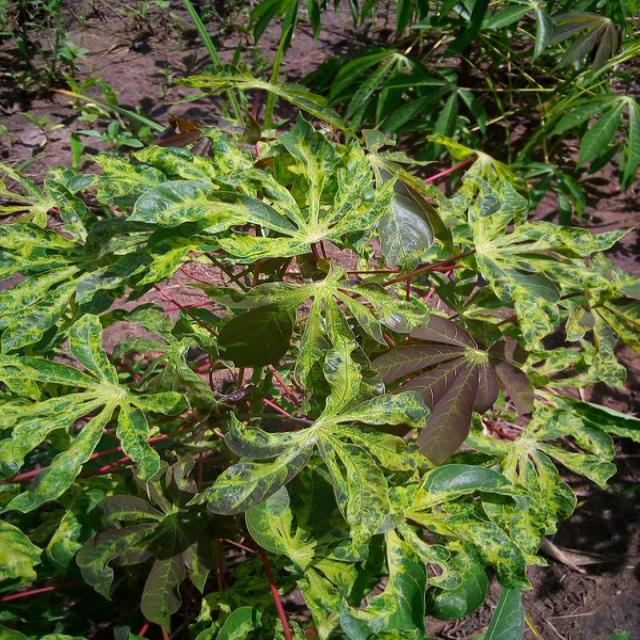Mosaico: (253, 349, 478, 543), (4, 188, 217, 358), (27, 327, 222, 490), (320, 500, 547, 640), (456, 165, 627, 346), (231, 255, 471, 372), (59, 124, 247, 251), (452, 403, 612, 529), (179, 149, 392, 239)
